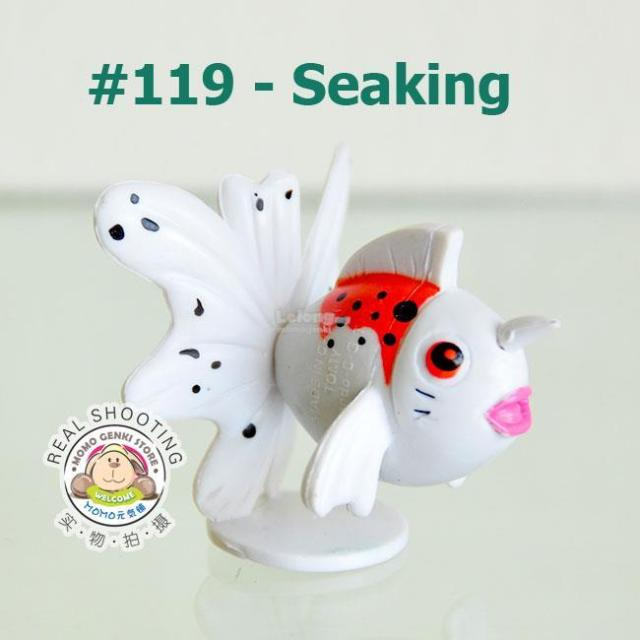Seaking: (91, 188, 543, 517)
